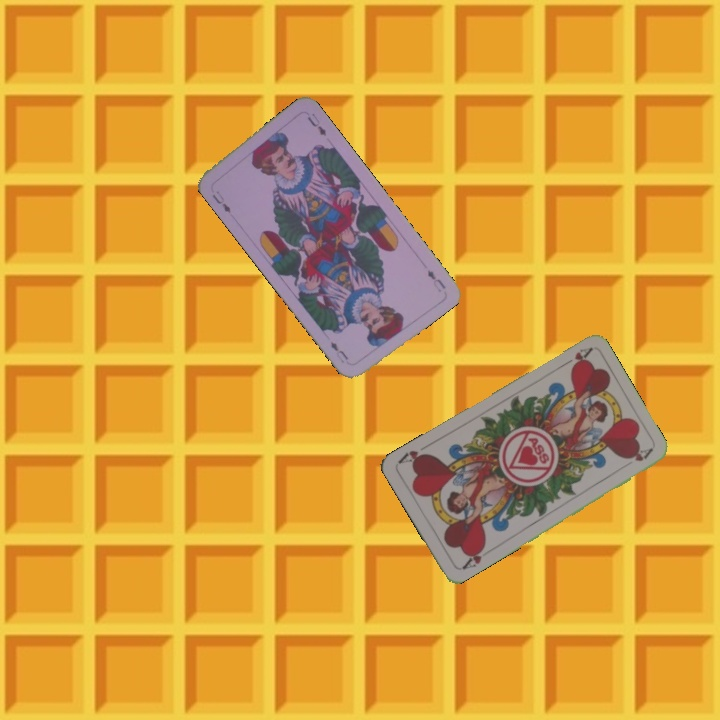EU: (423, 266, 448, 295), (208, 189, 233, 216)
HA: (556, 343, 594, 372), (458, 541, 493, 572)
